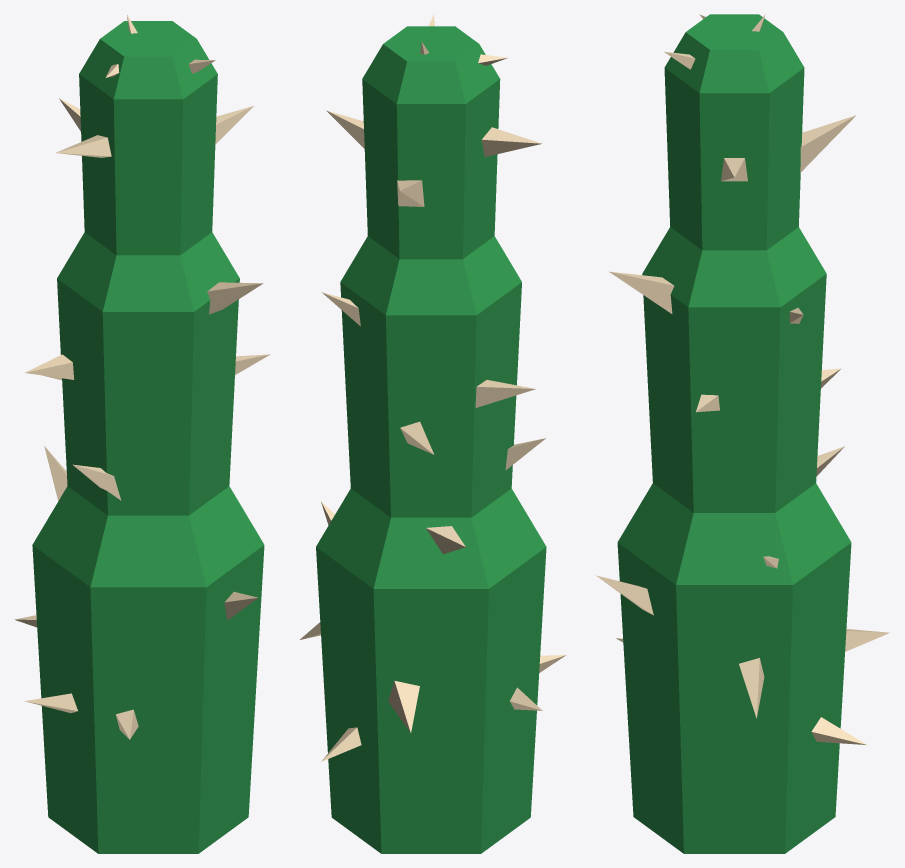
File: Cactus_A.fbx
The picture shows the model from 3 angles, left to right: view 1: azimuth 30°, elevation 25°; view 2: azimuth 150°, elevation 25°; view 3: azimuth 270°, elevation 25°; orthographic projection.
Visible parts, largest first — view 1: Cactus_A; view 2: Cactus_A; view 3: Cactus_A.
Boxes of the visible parts, box(x1,y1,x2,y2) form: Cactus_A: box(15, 14, 270, 853); Cactus_A: box(300, 14, 566, 853); Cactus_A: box(596, 14, 889, 853).
Size of the model in its own units: 33.25 by 105 by 35.05.
